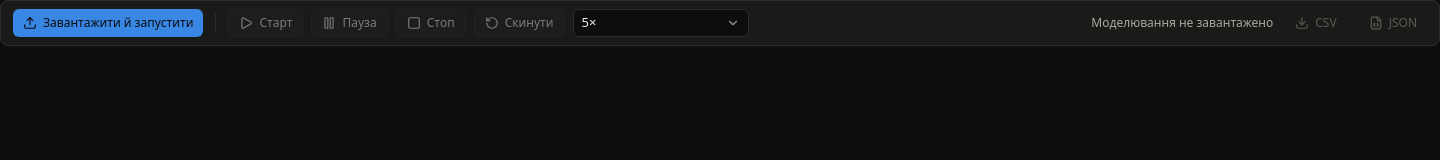
Scenario: simulation lifecycle controls › loads the configuration into the engine and starts it
The width and height of the screenshot is (1440, 160).
Click the button "Завантажити й запустити" at (108,23), box [13,9,204,37]
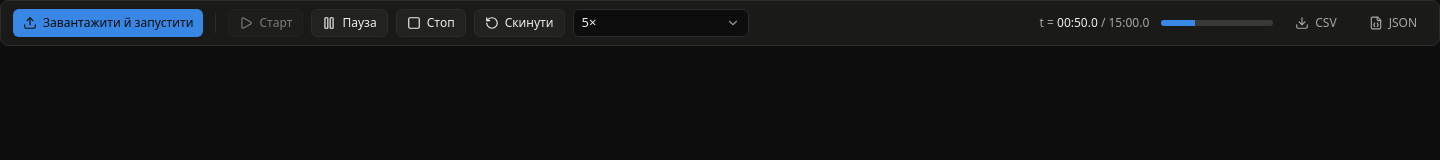
Expected: the button "Пауза" is enabled, [312,9,388,37]
